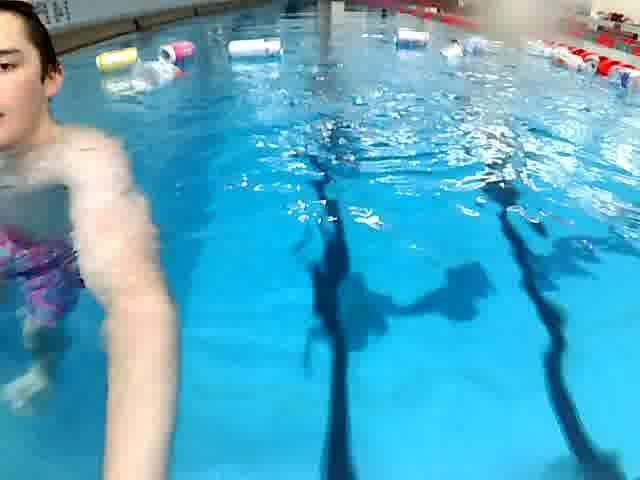Bottle: (101, 52, 203, 104)
Can: (91, 40, 151, 76), (225, 35, 288, 67), (548, 47, 600, 79), (158, 35, 199, 68), (391, 26, 431, 51)
